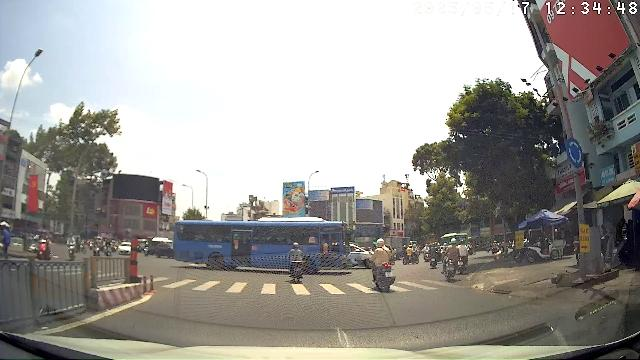303-noi-giao-nhau-chay-theo-vong-xuyen: (566, 138, 584, 168)
